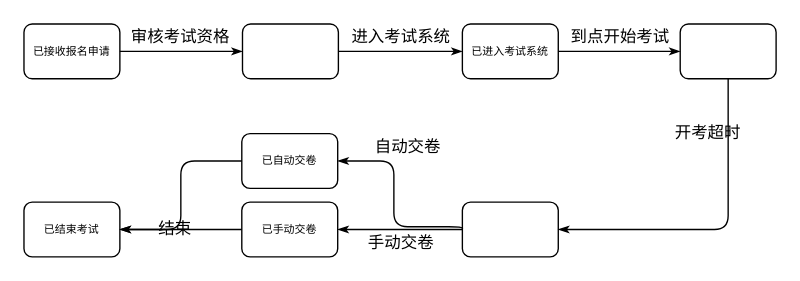
Some shapes in this 800 by 281 pixel diagram are drawn without their labels. The centre of each missing label's shape, as x and y in pixels:
"已审批考试资格" goes at [289,51].
"已开考" goes at [727,51].
"已开考超时" goes at [509,229].
